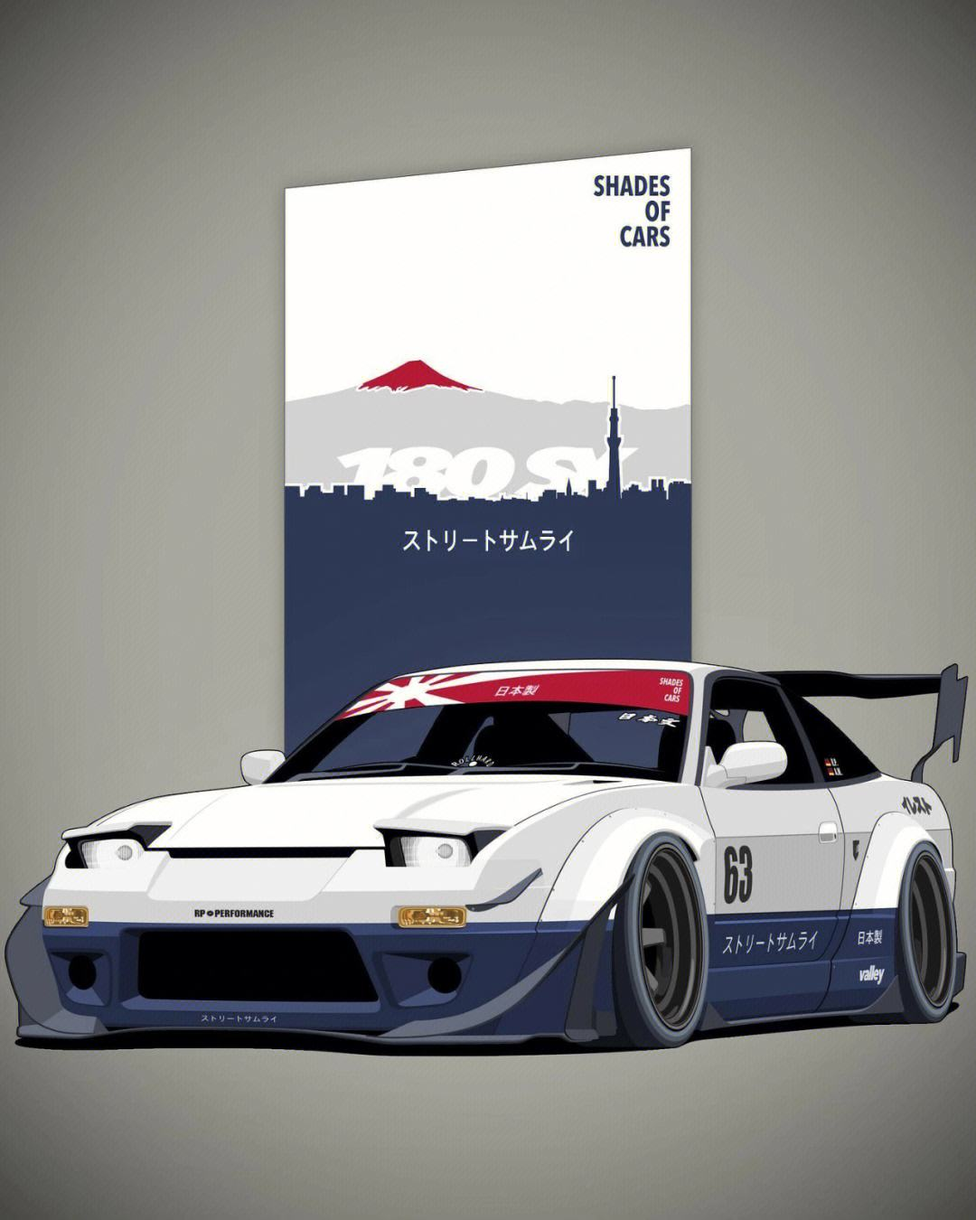other: (19, 634, 976, 1037)
